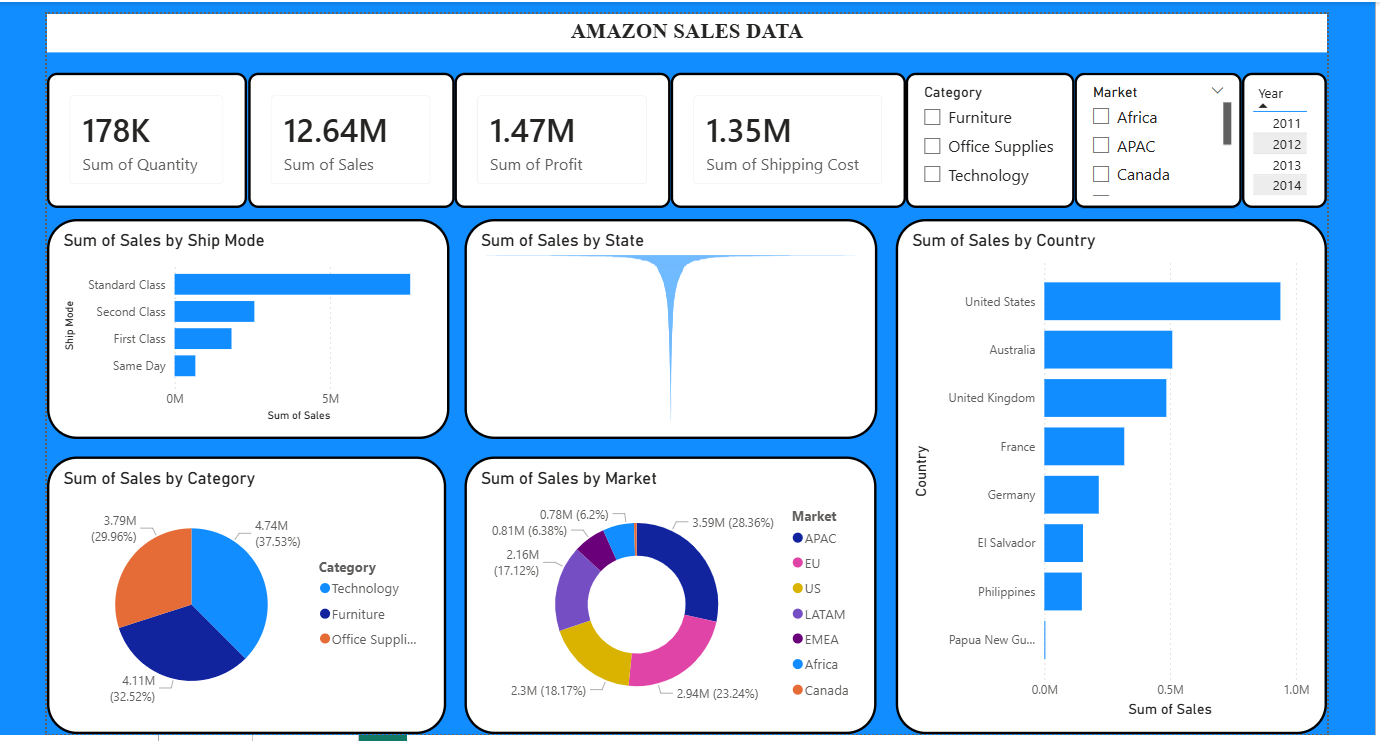

What the dashboard file says about the page in this screenshot:
{"tool":"powerbi","page":{"name":"Page 1","canvas":[1280,720],"ordinal":0},"visuals":[{"type":"pieChart","fields":{"Category":["Orders.Category"],"Y":["Sum(Orders.Sales)"]},"box":[0,442.8,399.3,277.4],"z":0},{"type":"textbox","box":[0,0,1280,38.8],"z":1000},{"type":"donutChart","fields":{"Category":["Orders.Market"],"Y":["Sum(Orders.Sales)"]},"box":[418,442.8,411.8,277.4],"z":2000},{"type":"barChart","fields":{"Category":["Orders.Ship Mode"],"Y":["Sum(Orders.Sales)"]},"box":[0,205,402.5,220],"z":3000},{"type":"funnel","fields":{"Category":["Orders.State"],"Y":["Sum(Orders.Sales)"]},"box":[417.5,205,412.5,220],"z":4000},{"type":"barChart","fields":{"Category":["Orders.Country"],"Y":["Sum(Orders.Sales)"]},"box":[848.8,205,431.2,515],"z":5000},{"type":"cardVisual","fields":{"Data":["Sum(Orders.Quantity)"]},"box":[0,58.8,200,135],"z":6000},{"type":"cardVisual","fields":{"Data":["Sum(Orders.Sales)"]},"box":[201.2,58.8,206.2,135],"z":7000},{"type":"cardVisual","fields":{"Data":["Sum(Orders.Profit)"]},"box":[407.5,58.8,216.2,135],"z":8000},{"type":"cardVisual","fields":{"Data":["Sum(Orders.Shipping Cost)"]},"box":[623.8,58.8,235,135],"z":9000},{"type":"slicer","fields":{"Values":["Orders.Category"]},"box":[858.8,58.8,168.8,135],"z":10000},{"type":"slicer","fields":{"Values":["Orders.Market"]},"box":[1027.5,58.8,167.5,135],"z":11000},{"type":"tableEx","fields":{"Values":["Orders.Order Date.Variation.Date Hierarchy.Year"]},"box":[1195,58.8,85,135],"z":11001}]}

Visuals, with their boxes in screenshot pixels (x1, y1, x2, y2):
pieChart - Orders.Category x Sum(Orders.Sales): locate(32, 456, 437, 737)
textbox: locate(32, 7, 1330, 47)
donutChart - Orders.Market x Sum(Orders.Sales): locate(456, 456, 874, 737)
barChart - Orders.Ship Mode x Sum(Orders.Sales): locate(32, 215, 440, 438)
funnel - Orders.State x Sum(Orders.Sales): locate(456, 215, 874, 438)
barChart - Orders.Country x Sum(Orders.Sales): locate(893, 215, 1330, 737)
cardVisual - Sum(Orders.Quantity): locate(32, 67, 235, 204)
cardVisual - Sum(Orders.Sales): locate(236, 67, 445, 204)
cardVisual - Sum(Orders.Profit): locate(446, 67, 665, 204)
cardVisual - Sum(Orders.Shipping Cost): locate(665, 67, 903, 204)
slicer - Orders.Category: locate(903, 67, 1074, 204)
slicer - Orders.Market: locate(1074, 67, 1244, 204)
tableEx - Orders.Order Date.Variation.Date Hierarchy.Year: locate(1244, 67, 1330, 204)
